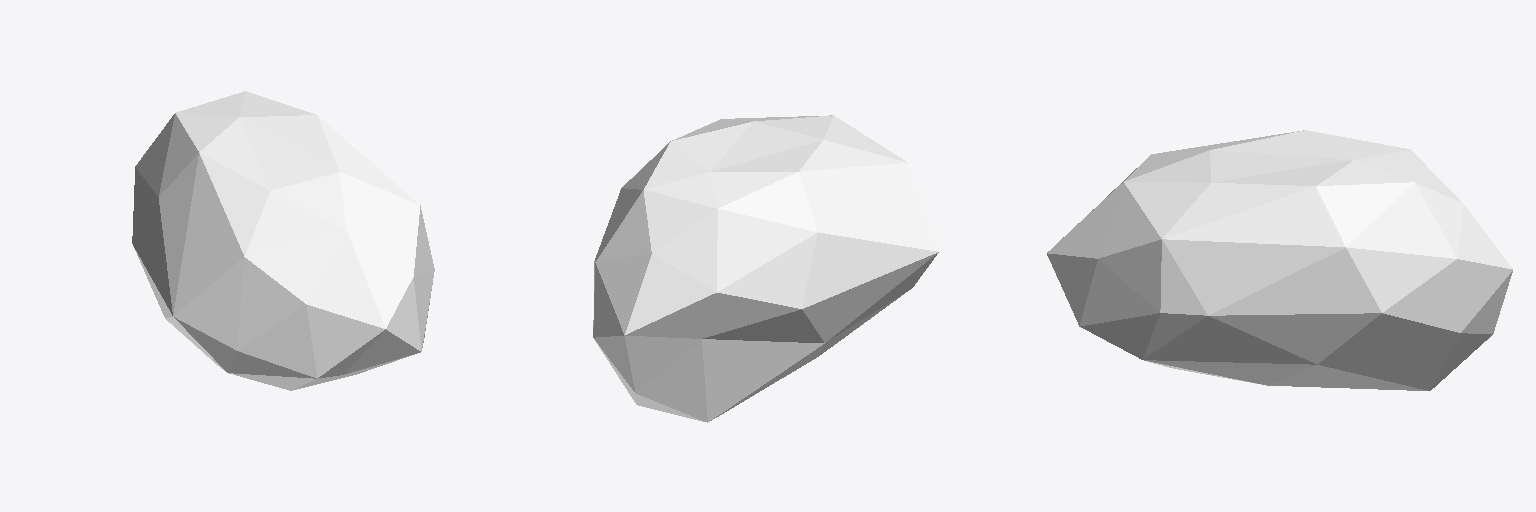
Rendered from oolite_boulder.obj.
3 views of the same model, side by side, from view 1: azimuth 30°, elevation 25°; view 2: azimuth 150°, elevation 25°; view 3: azimuth 270°, elevation 25° (orthographic).
Visible parts, largest first — view 1: oolite_boulder.obj; view 2: oolite_boulder.obj; view 3: oolite_boulder.obj.
Boxes of the visible parts, x1=… form: oolite_boulder.obj: x1=132, y1=91, x2=434, y2=390; oolite_boulder.obj: x1=593, y1=115, x2=938, y2=422; oolite_boulder.obj: x1=1047, y1=130, x2=1512, y2=390.
Size of the model in its own units: 176 by 144 by 280.